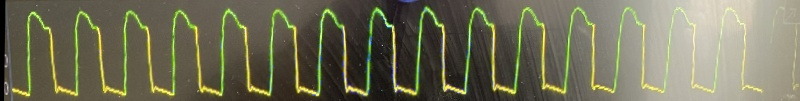normal_pressure: (2, 0, 769, 101)
